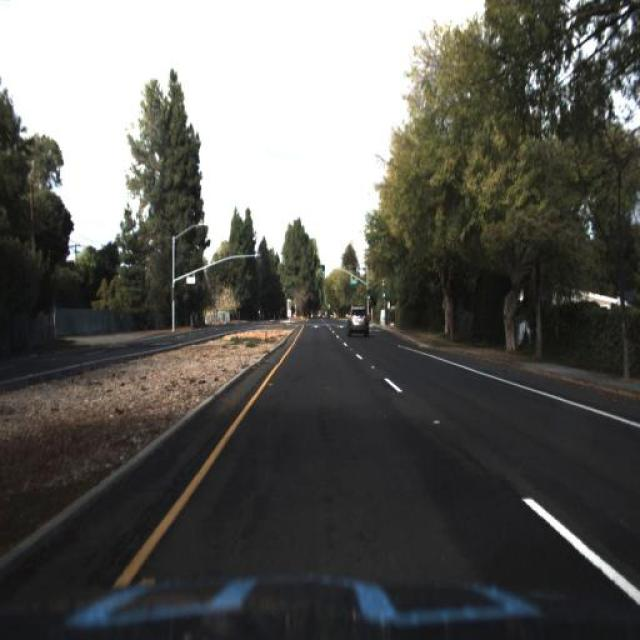car: (346, 304, 370, 340)
trafficLight-GreenLeft: (378, 285, 388, 307), (363, 288, 372, 308), (319, 262, 326, 282)
